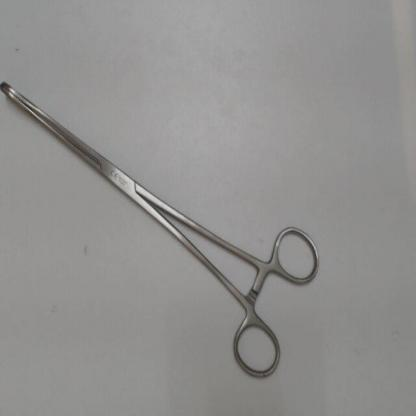Sponge Forceps: (1, 72, 326, 385)
